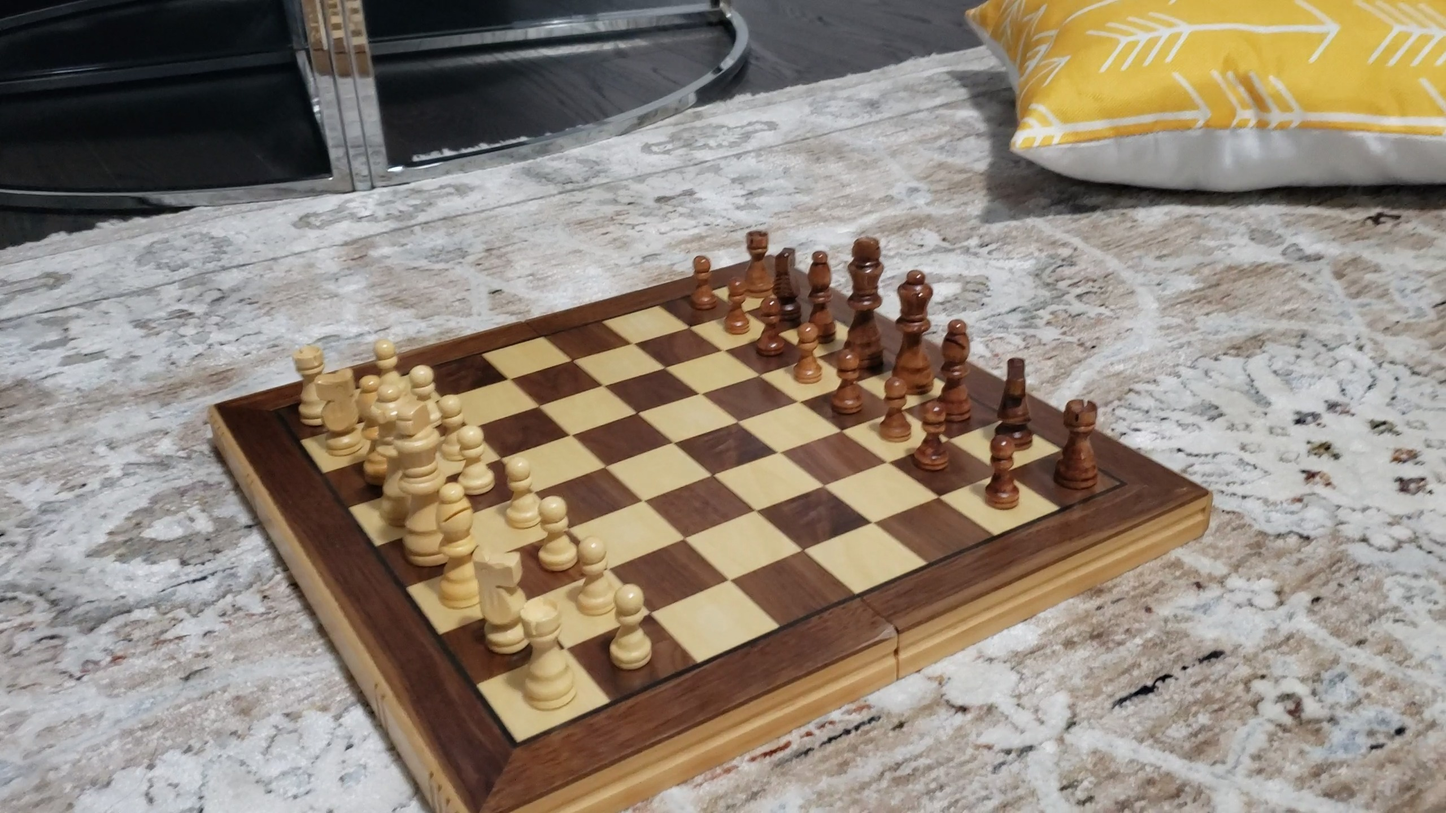black-bishop: (938, 321, 971, 423), (806, 245, 835, 342)
black-king: (844, 236, 883, 371)
black-knight: (993, 356, 1030, 449), (773, 247, 802, 333)
black-pawn: (746, 290, 794, 367), (873, 363, 919, 443), (717, 264, 757, 341), (985, 435, 1021, 509), (789, 321, 829, 387), (913, 401, 949, 471), (684, 250, 717, 319), (831, 347, 863, 415)
black-queen: (890, 264, 932, 393)
black-rook: (1055, 398, 1100, 492), (741, 227, 773, 298)
white-bishop: (437, 483, 482, 611)
white-king: (391, 394, 446, 577)
white-knight: (313, 359, 366, 461), (480, 554, 527, 653)
white-pawn: (596, 582, 662, 674), (534, 487, 584, 581), (570, 530, 620, 622), (499, 458, 550, 531), (456, 420, 495, 498), (435, 393, 467, 446)
white-rook: (519, 598, 575, 708), (292, 344, 330, 424)
